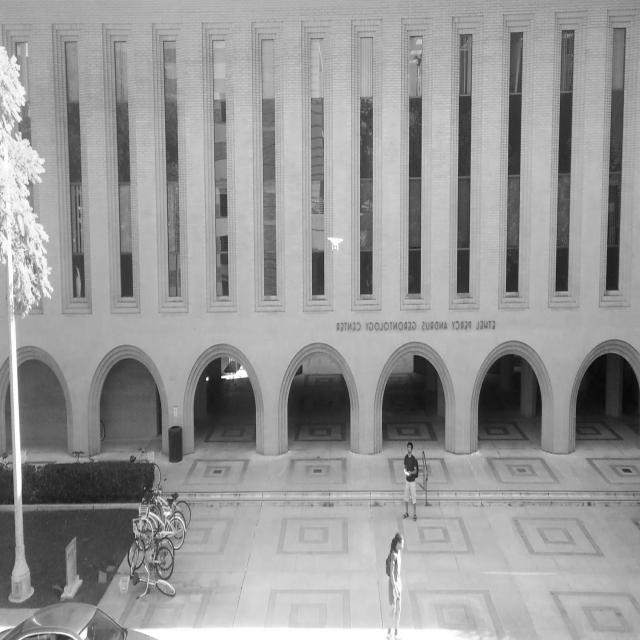drone: (324, 233, 345, 255)
